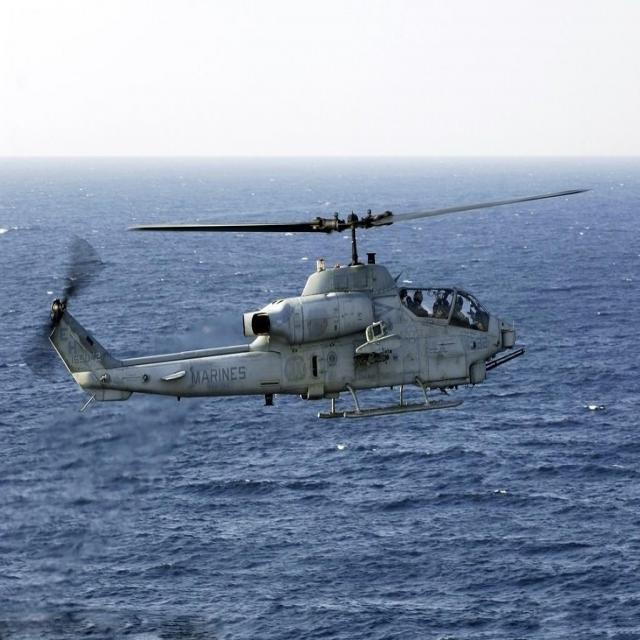MIL_HELO: (13, 174, 601, 430)
